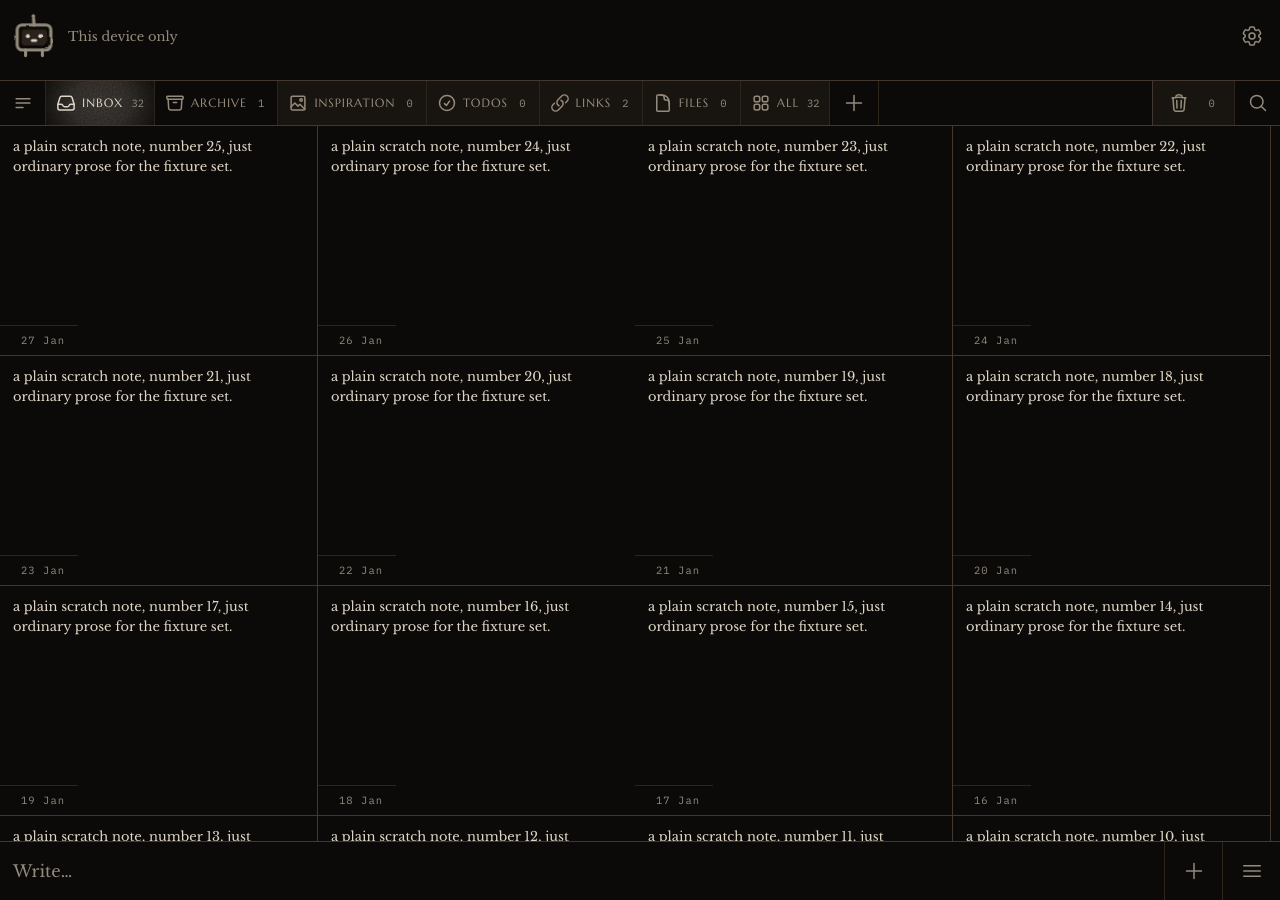
Scenario: signing in from a device that chose to do without › opens the sign-in screen on the first tap in Settings, not the banner
Expected: the button with aria-label "a plain scratch note, number 25, just ordinary prose for the" is shown, [0,126,318,356]
What coordinates should you click on to do the following:
click the button named "Settings"
I would click on:
 (1252, 36)
Its box is [1230,14,1274,58].
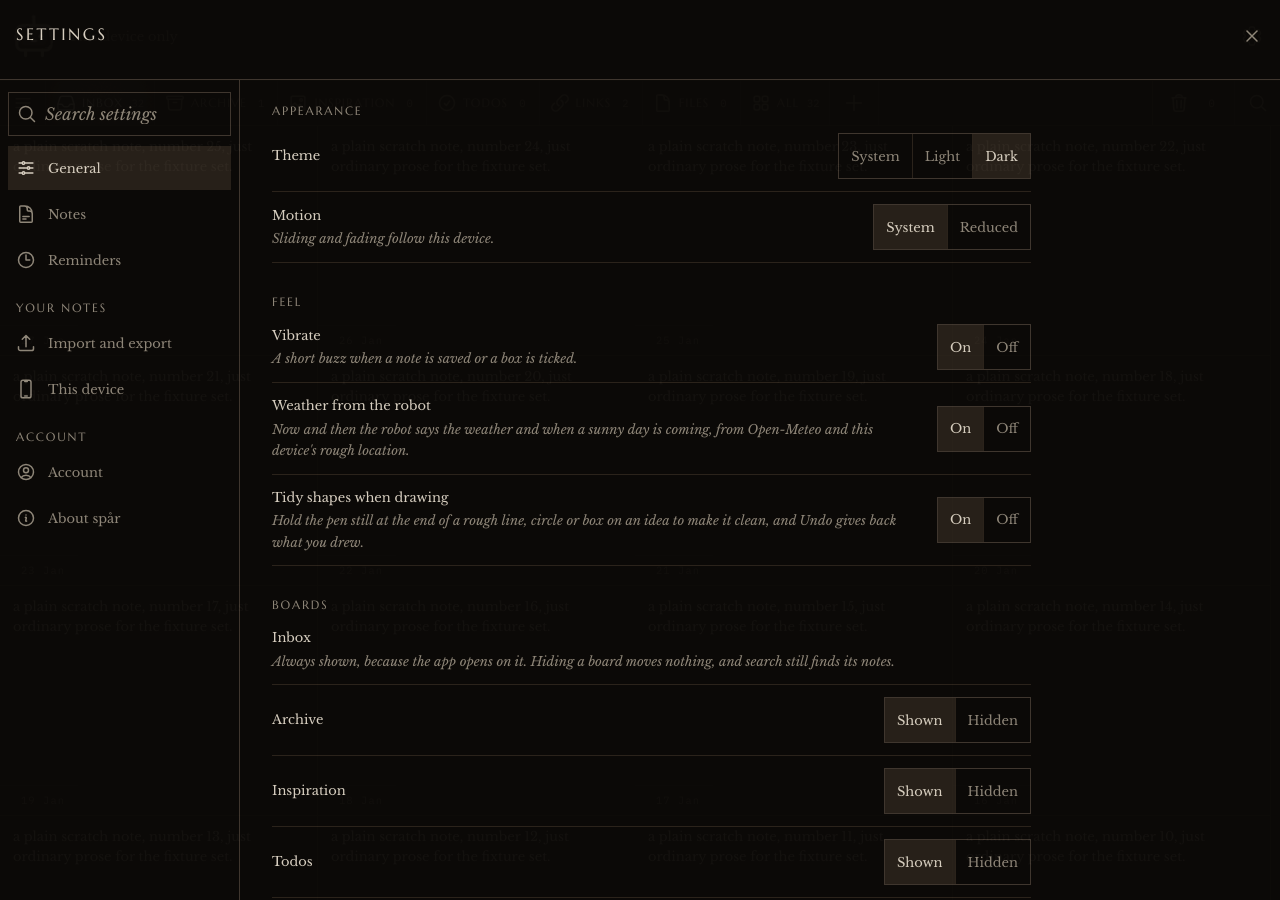
What coordinates should you click on to do the following:
click the button "Account"
I would click on:
 (120, 472)
Its box is [8,450,231,494].
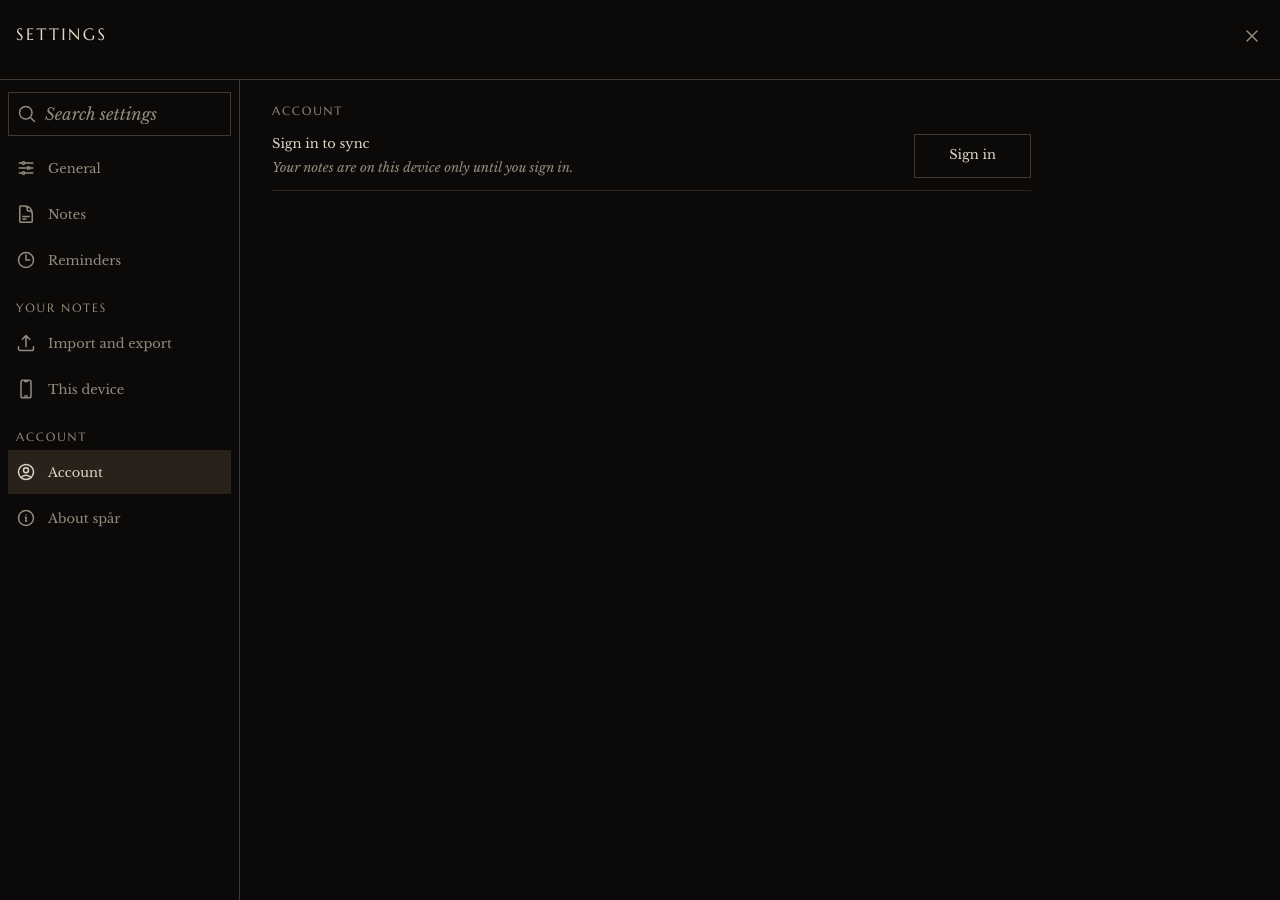
What coordinates should you click on to do the following:
click the button "Sign in"
I would click on:
 (972, 156)
Its box is [914,134,1031,178].
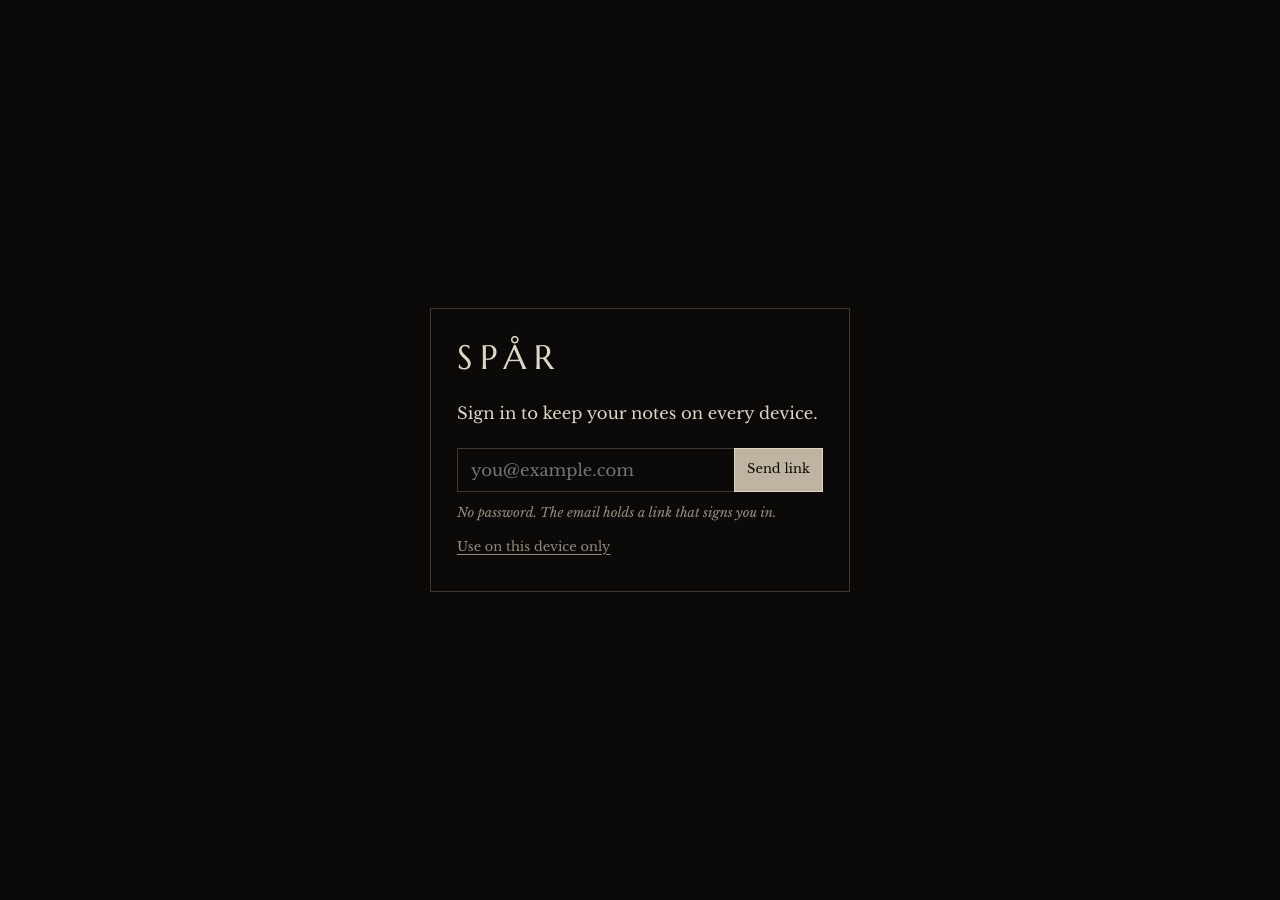
Now the text "No password. The email holds a link that signs you in." is shown, box [457,502,823,523]
